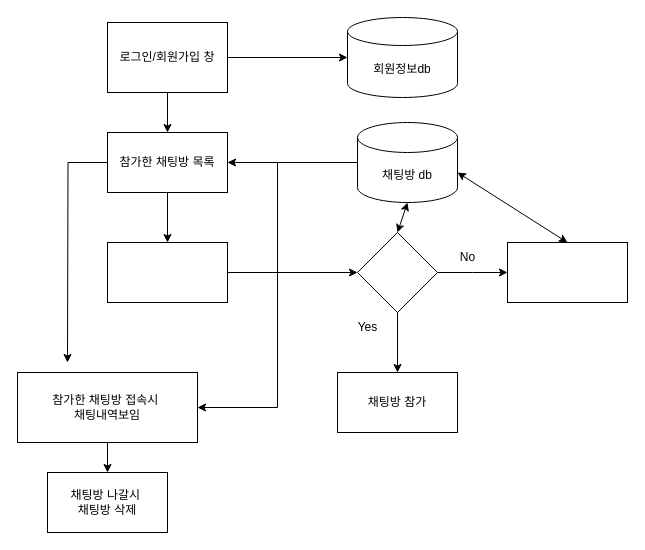
Some shapes in this 645 by 550 pixel diagram are drawn without their labels. Here are the shapes that lost their labels. From the top down, the centre of each, then its label:
At point (167, 272): "채팅방 검색".
At point (397, 272): "채팅방이 있나?".
At point (567, 272): "새로운 채팅방 개설".
